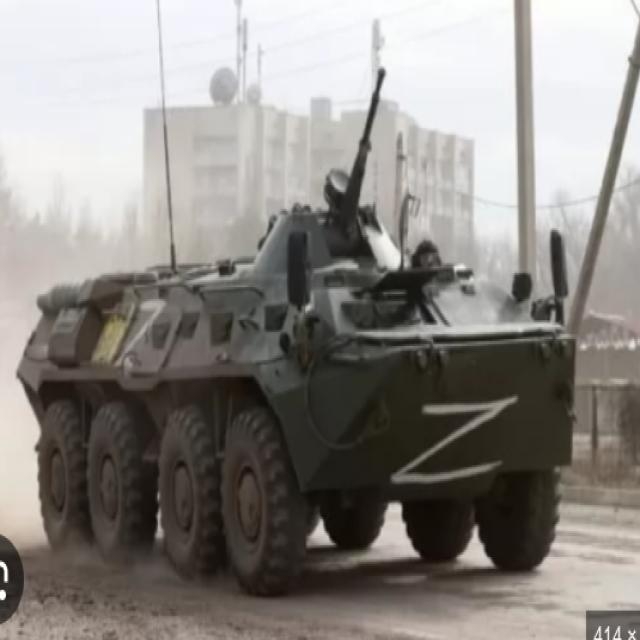MIL_APC: (13, 214, 611, 603)
